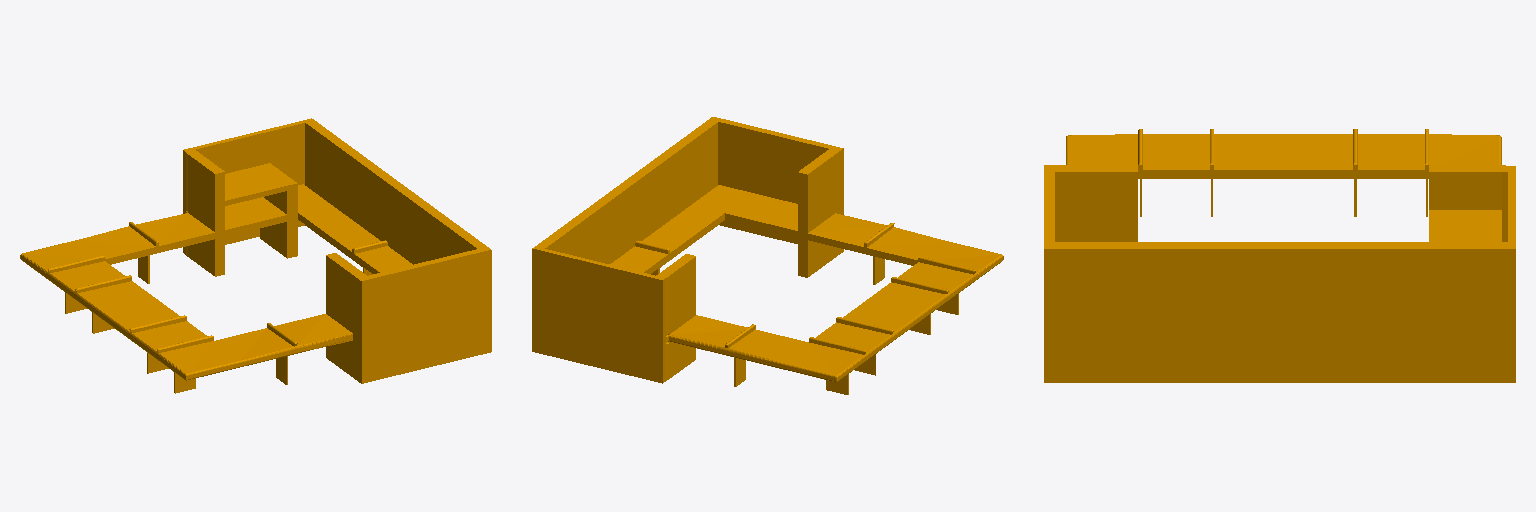
URDF robot description (madar_case):
<?xml version="1.0"?>
<robot name="madar_case">
  <link name="base">
   <visual>
     <origin xyz="0 0 0" rpy="0 0 0" />
       <geometry>
        <mesh filename="madar_case.dae" scale="1.0 1.0 1.0"/>
      </geometry>
   </visual>
   <collision>
     <origin xyz="0 0 0" rpy="0 0 0" />
       <geometry>
        <mesh filename="madar_case.dae" scale="1.0 1.0 1.0"/>
       </geometry>
    </collision>
  </link>
</robot>

--- Render facts (derived) ---
Views: 3 orthographic renders of the robot side by side, from view 1: azimuth 30°, elevation 25°; view 2: azimuth 150°, elevation 25°; view 3: azimuth 270°, elevation 25°.
Robot: madar_case — 1 links, 0 joints (none); root link base; default pose: every joint at zero.
Links seen in each view (by area): view 1: base; view 2: base; view 3: base.
Boxes of the visible links, x1,y1,x2,y2 form: base: [20, 118, 491, 393]; base: [532, 117, 1003, 394]; base: [1044, 129, 1515, 382].
Size in the robot's own frame: 6.21 by 6.49 by 2.05 metres.
Meshes: 1 distinct files referenced, 1 mesh visuals loaded (1 Collada DAE).
